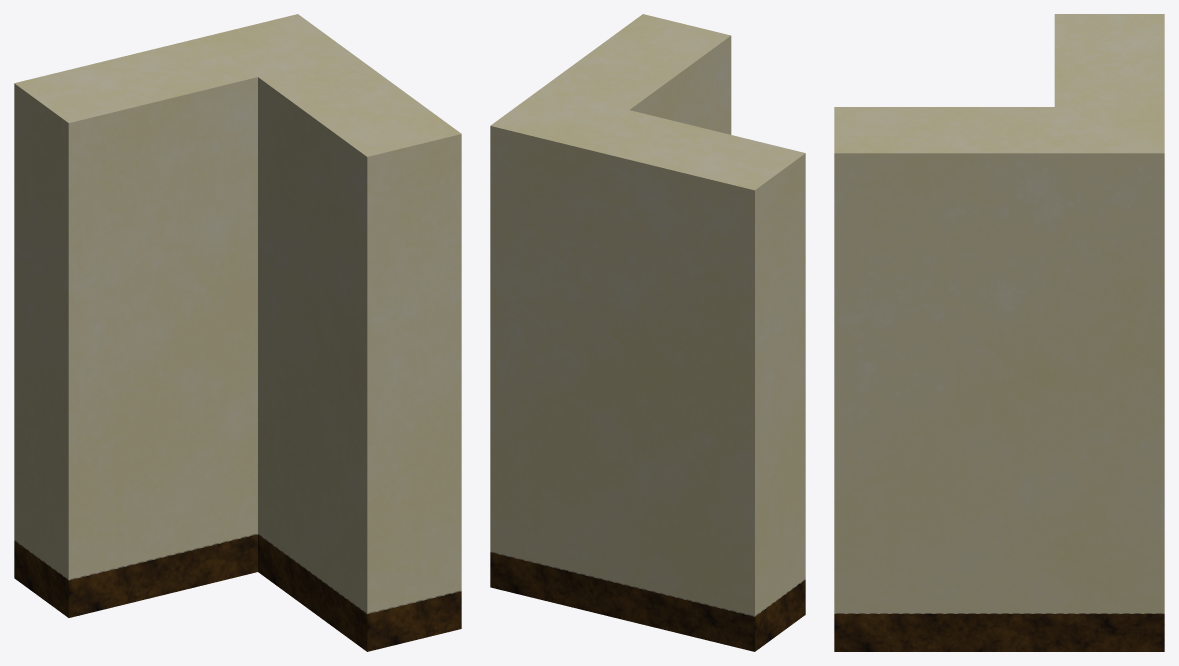
File: murCoin 1.fbx
3 renders of one model, left to right at view 1: azimuth 30°, elevation 25°; view 2: azimuth 150°, elevation 25°; view 3: azimuth 270°, elevation 25°, orthographic. The views are drawn at different scales.
Parts seen in each view (by area): view 1: murconi; view 2: murconi; view 3: murconi.
Part boxes in pixels (box(x1,y1,x2,y2)): murconi: box(14, 14, 461, 651); murconi: box(490, 14, 805, 651); murconi: box(834, 14, 1164, 651).
Size of the model in its own units: 6 by 10 by 6.
